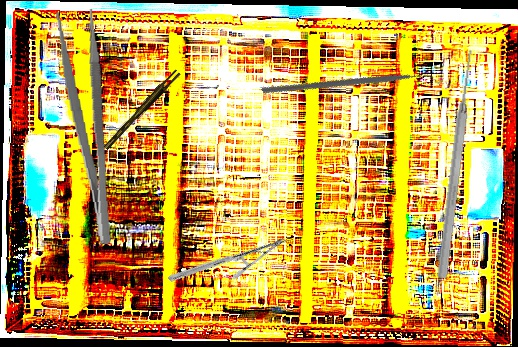Chopper: (261, 1, 441, 174)
Dressing Forceps: (54, 8, 117, 247)
Needle Holder: (167, 198, 287, 321)
Pusher: (434, 47, 479, 280)
Tissue Forceps: (99, 69, 184, 150)
